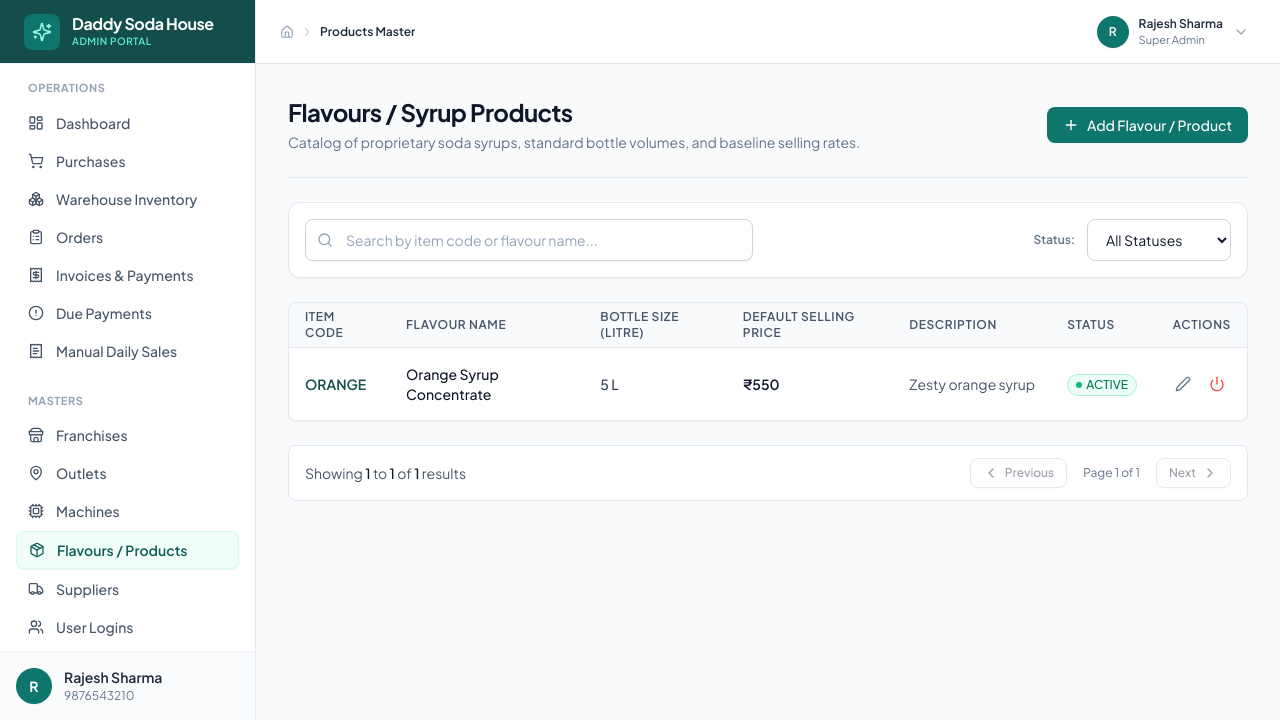
Test: Daddy Soda House Master Data Module › defaults bottle size to 5.00 in Product form
This screenshot has width=1280, height=720.
What coordinates should you click on to do the following:
click the button "Add Flavour / Product"
I would click on:
 (1148, 124)
Its box is top-left (1047, 106), bottom-right (1248, 142).
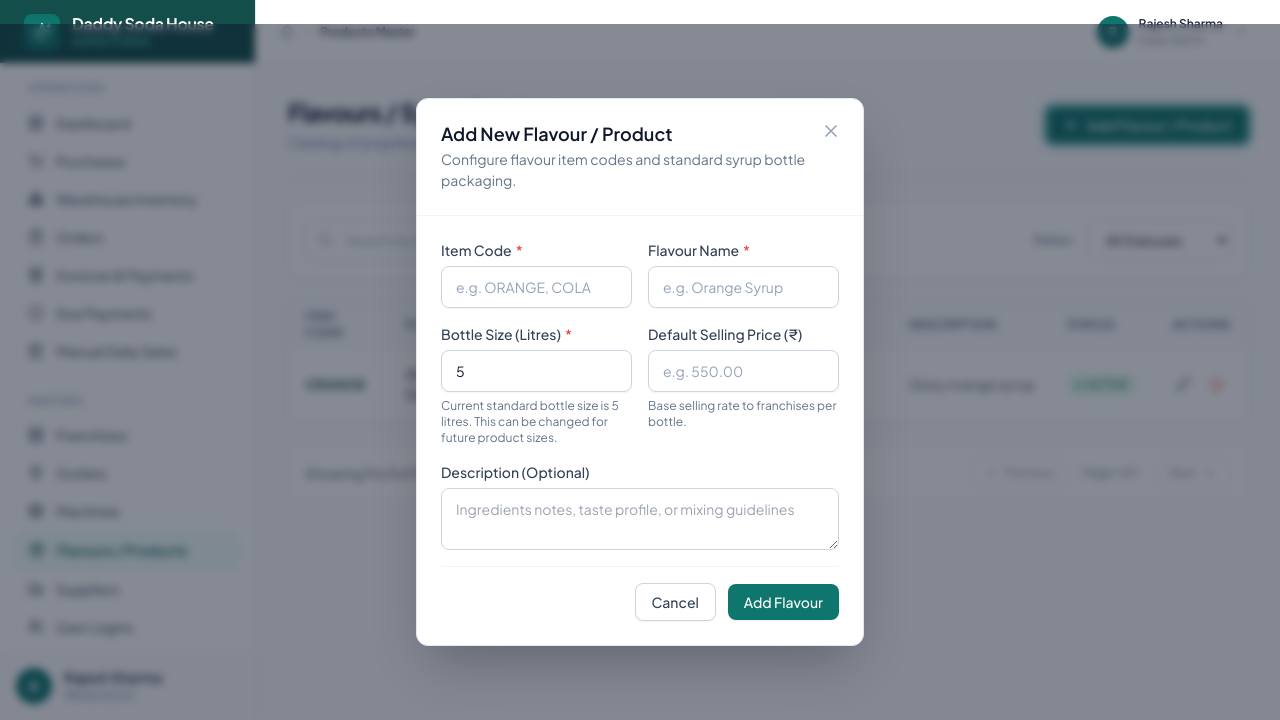
Now the number field labelled "Bottle Size (Litres)*" holds "5", box top-left (441, 350), bottom-right (632, 392)
Now the text "Current standard bottle size is 5 litres" is shown, box top-left (441, 398), bottom-right (619, 445)
